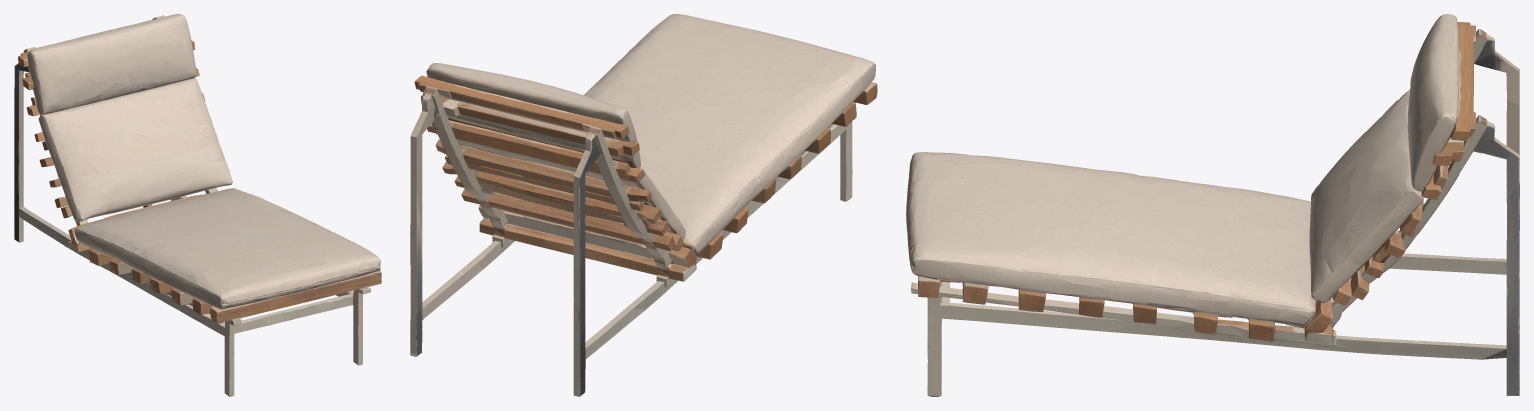
3 views of the same model, side by side, from view 1: azimuth 30°, elevation 25°; view 2: azimuth 150°, elevation 25°; view 3: azimuth 270°, elevation 25° (orthographic). The views are drawn at different scales.
Size of the model in its own units: 0.8236 by 0.9942 by 1.9.
Materials: 1 (1 with a texture image).
